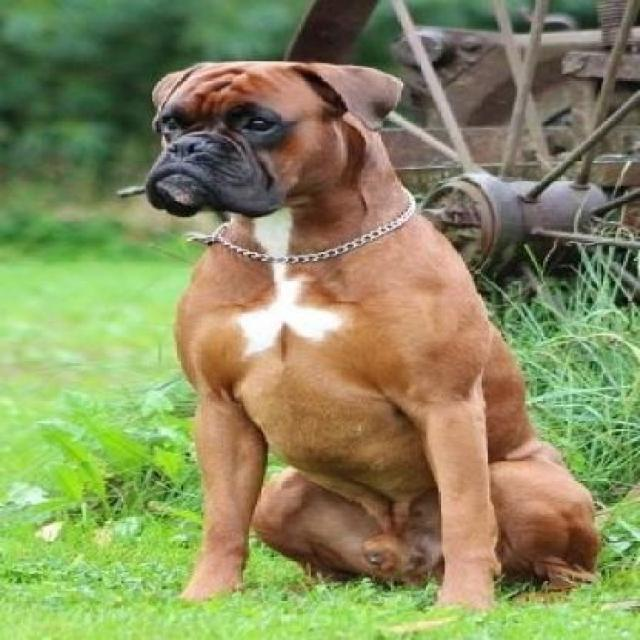animals: (116, 55, 602, 614)
